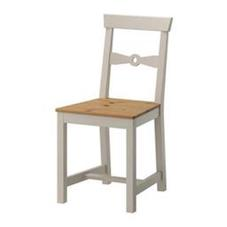chair: (12, 5, 214, 219)
